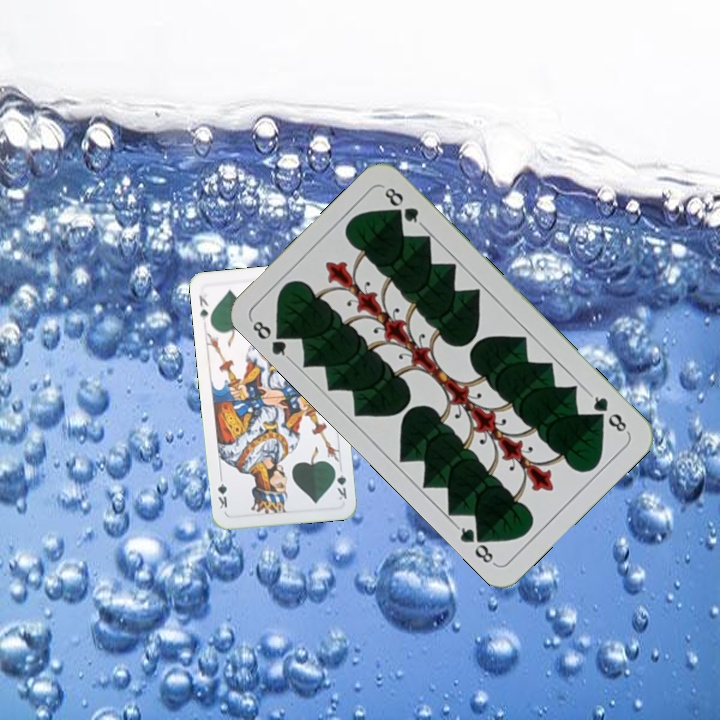G8: (246, 316, 293, 363), (585, 389, 631, 436)
GK: (331, 464, 349, 503), (195, 291, 211, 323)
